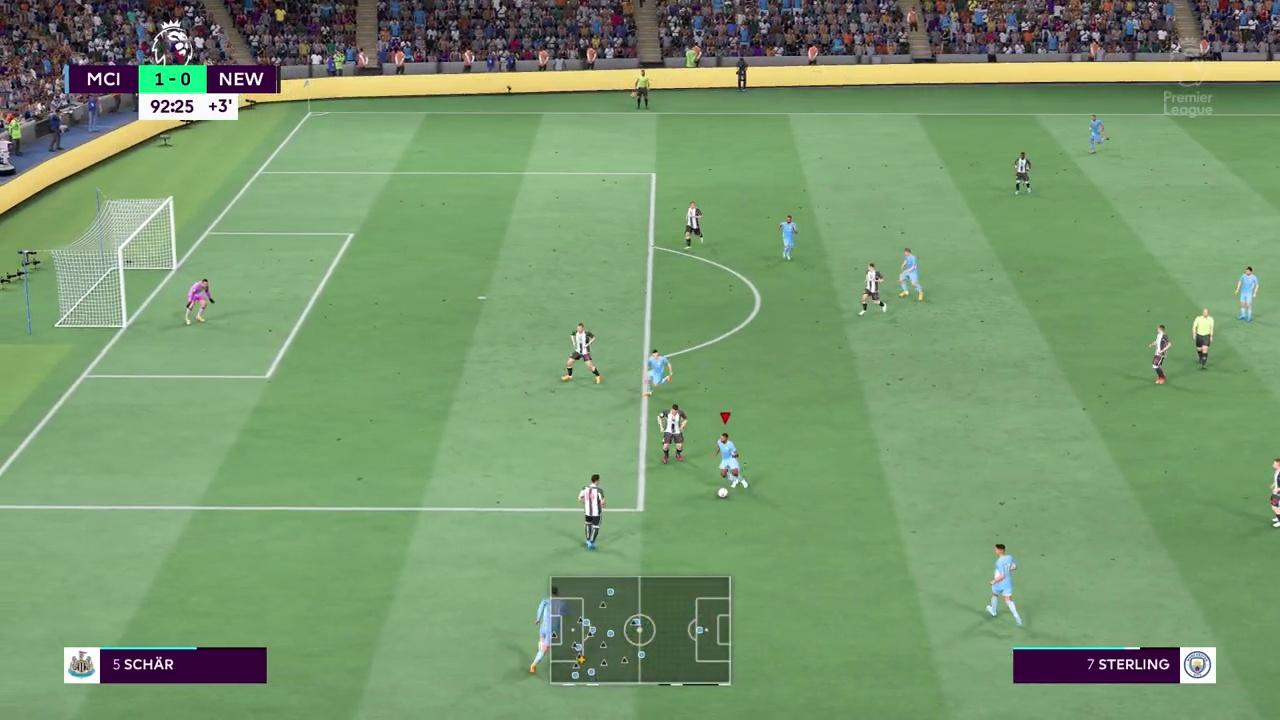scoreboard: (64, 60, 280, 95)
timestamp: (135, 94, 239, 122)
